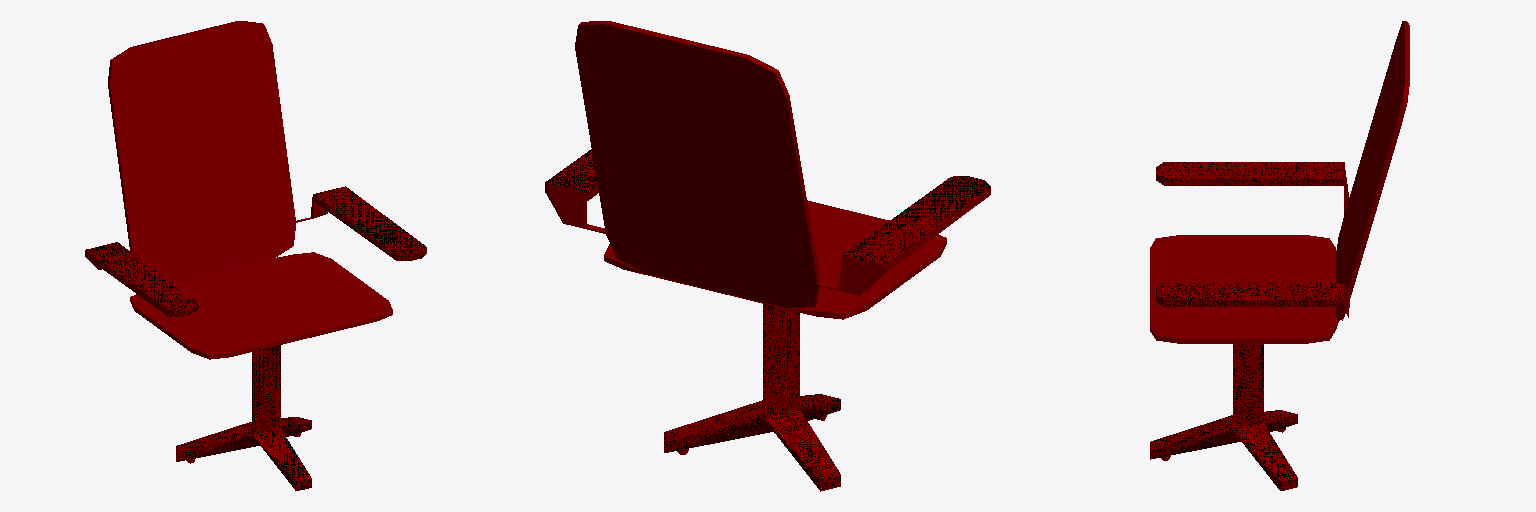
robot.urdf — chair:
<robot
  name="chair">
  <link name="chair">
    <inertial>
      <origin xyz="0.0 0.0 0.0" rpy="0 0 0"/>
      <mass value="1.5"/>
      <inertia ixx="1" ixy="0.0" ixz="0.0" iyy="1" iyz="0.0" izz="1" />
    </inertial>

    <visual>
      <geometry>
        <mesh filename="meshes/simpleChair.dae" scale="1 1 1" />
      </geometry>
     </visual>

    <collision>
      <geometry>
        <mesh filename="meshes/simpleChair.dae" scale="1 1 1" />
      </geometry>
    </collision>

  </link>
</robot>

--- Render facts (derived) ---
3 views of the same robot in one strip: view 1: azimuth 30°, elevation 25°; view 2: azimuth 150°, elevation 25°; view 3: azimuth 270°, elevation 25° (orthographic).
Model chair with 1 links and 0 joints (none), rooted at chair, posed every joint at zero.
Links seen in each view (by area): view 1: chair; view 2: chair; view 3: chair.
Link boxes in pixels (<box>): chair: <box>85,21,426,490</box>; chair: <box>545,21,990,491</box>; chair: <box>1150,21,1409,490</box>.
Size in the robot's own frame: 0.8077 by 0.6399 by 1.11 metres.
Meshes: 1 distinct files referenced, 1 mesh visuals loaded (1 Collada DAE).